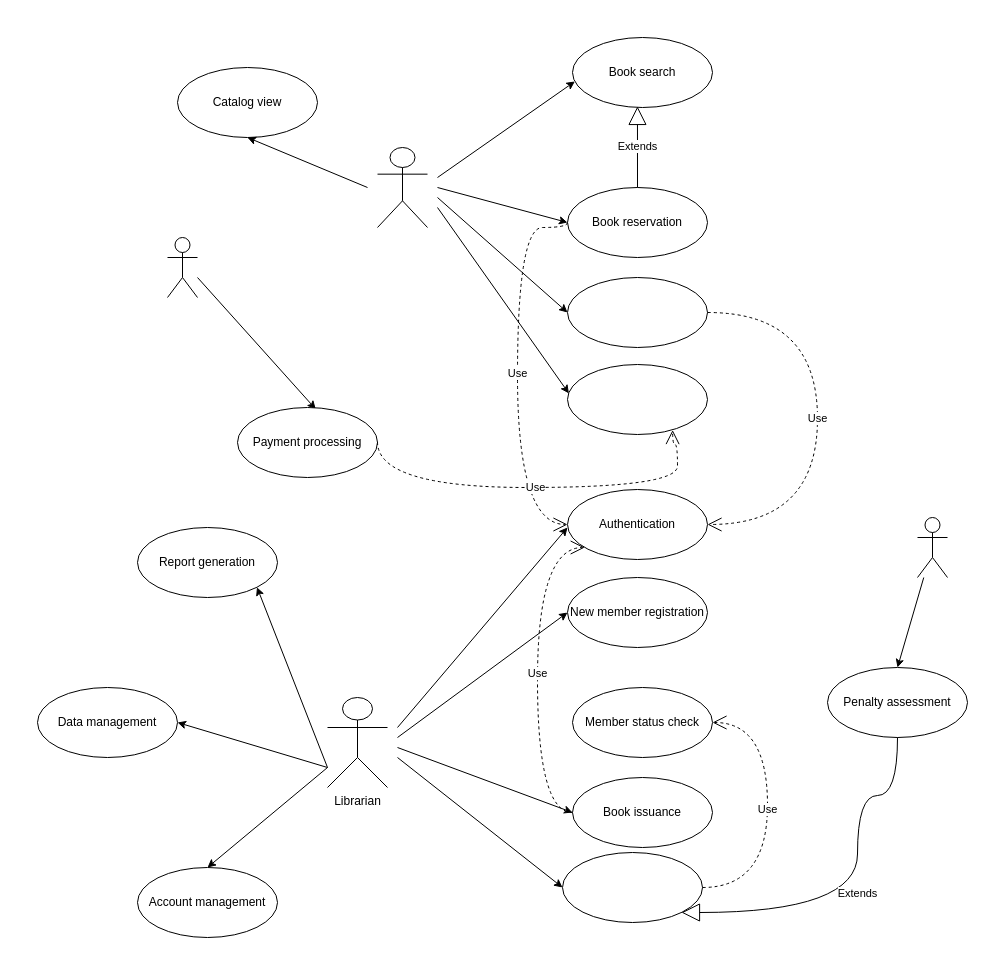
The diagram is 1006 pixels wide and 966 high, and some of its shapes have lost their labels. The shapes that lost their labels are listed below. From the top down, each one's box as (x1, y1, x2, y2) in pixels, then its label:
(376, 146, 428, 228): Member
(166, 236, 198, 298): External payment system
(566, 276, 708, 348): View loan status or fines
(566, 364, 708, 434): Payment of a fine
(916, 516, 948, 578): Notification service
(562, 852, 702, 922): Book reception (return operation)
